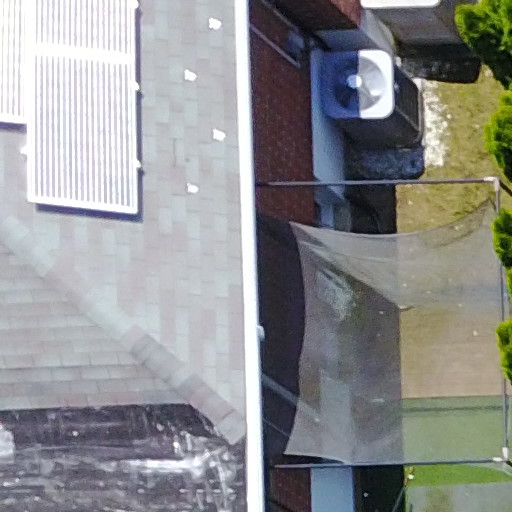air conditioner: (285, 28, 446, 158)
